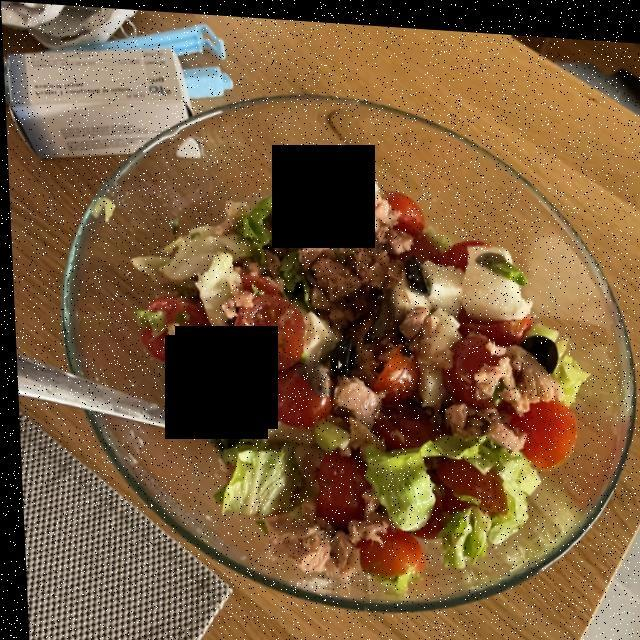salad: (125, 189, 588, 550)
tomato: (209, 221, 555, 559)
tuna: (248, 197, 531, 573)
